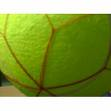tennis ball: (1, 14, 110, 96)
